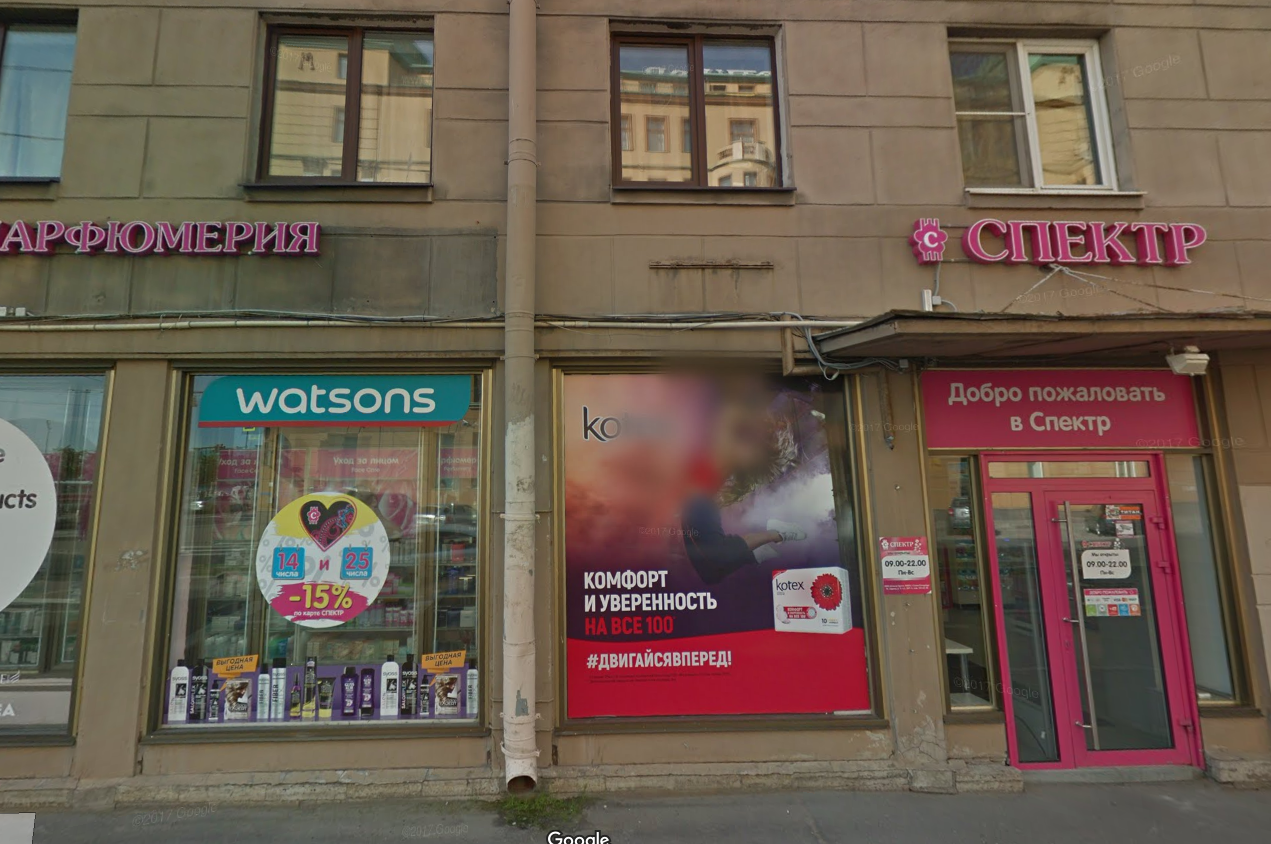door: (980, 448, 1197, 770)
signboard: (905, 210, 1213, 280), (1, 211, 343, 264)
window: (552, 361, 886, 722), (165, 366, 486, 725), (945, 31, 1117, 191), (256, 26, 433, 178), (613, 35, 777, 188)
